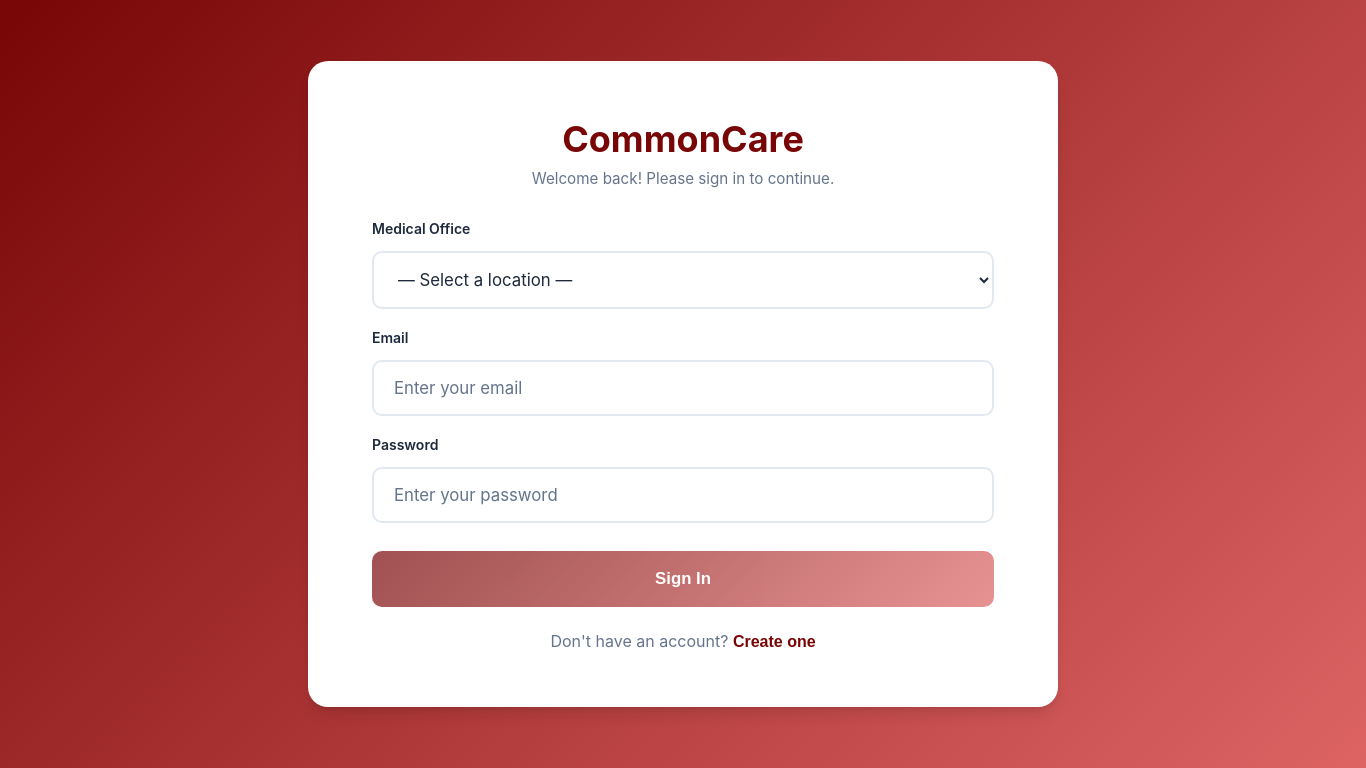
Scenario: Login component › shows error message on failed login
Expected: the dropdown labelled "Medical Office" is shown, [372,251,994,309]
Type "bad@test.com" into the field labelled "Email".
click(683, 388); type("bad@test.com")  # box [372,360,994,416]
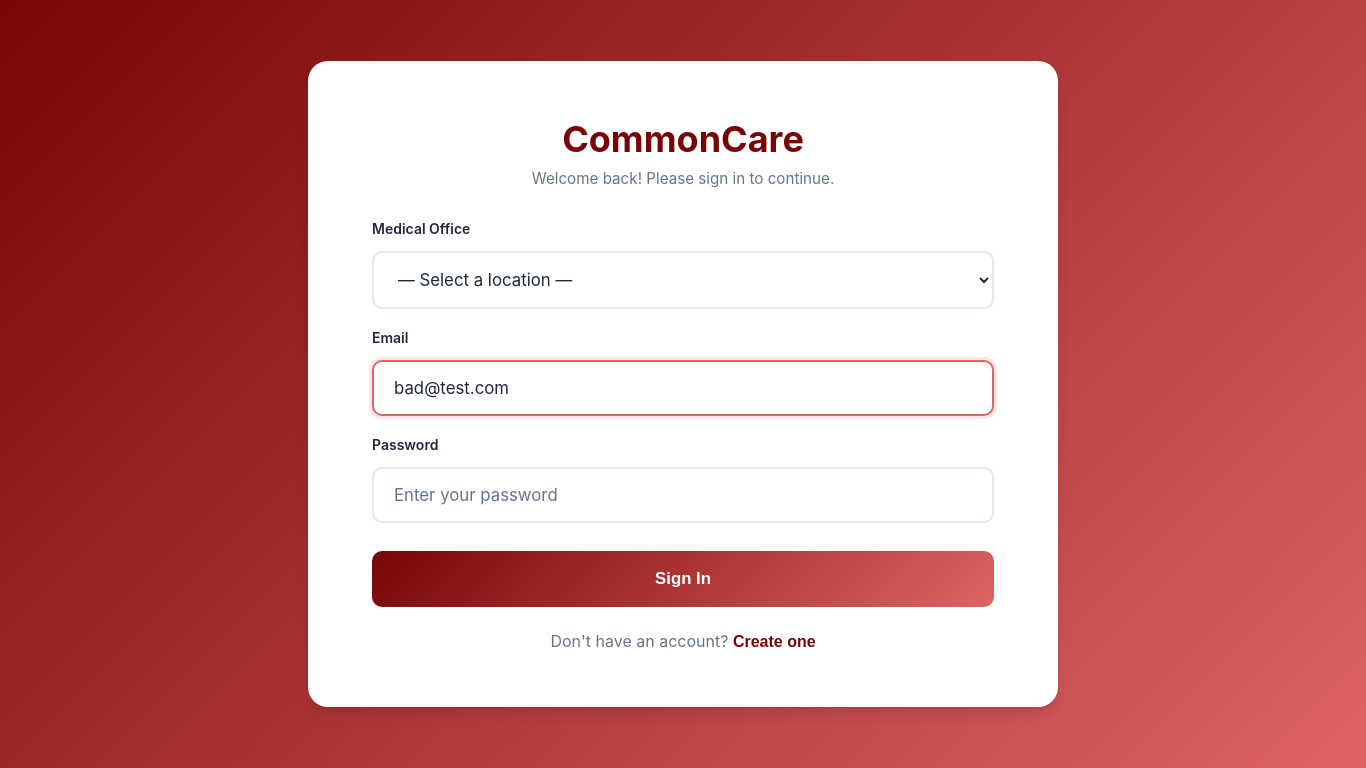
Type "wrongpass" into the password field labelled "Password".
click(683, 495); type("wrongpass")  # box [372,467,994,523]
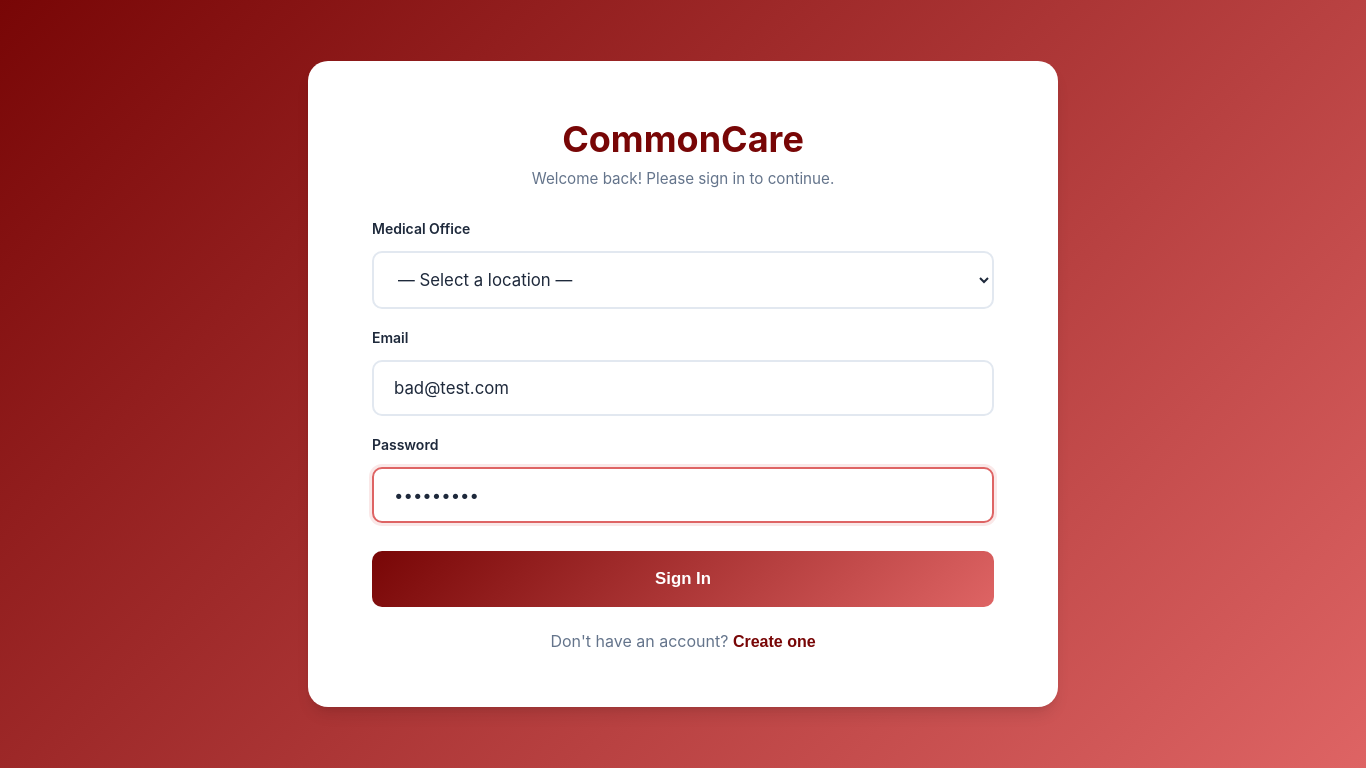
Click the button "Sign In".
click(683, 579)  # box [372,551,994,607]
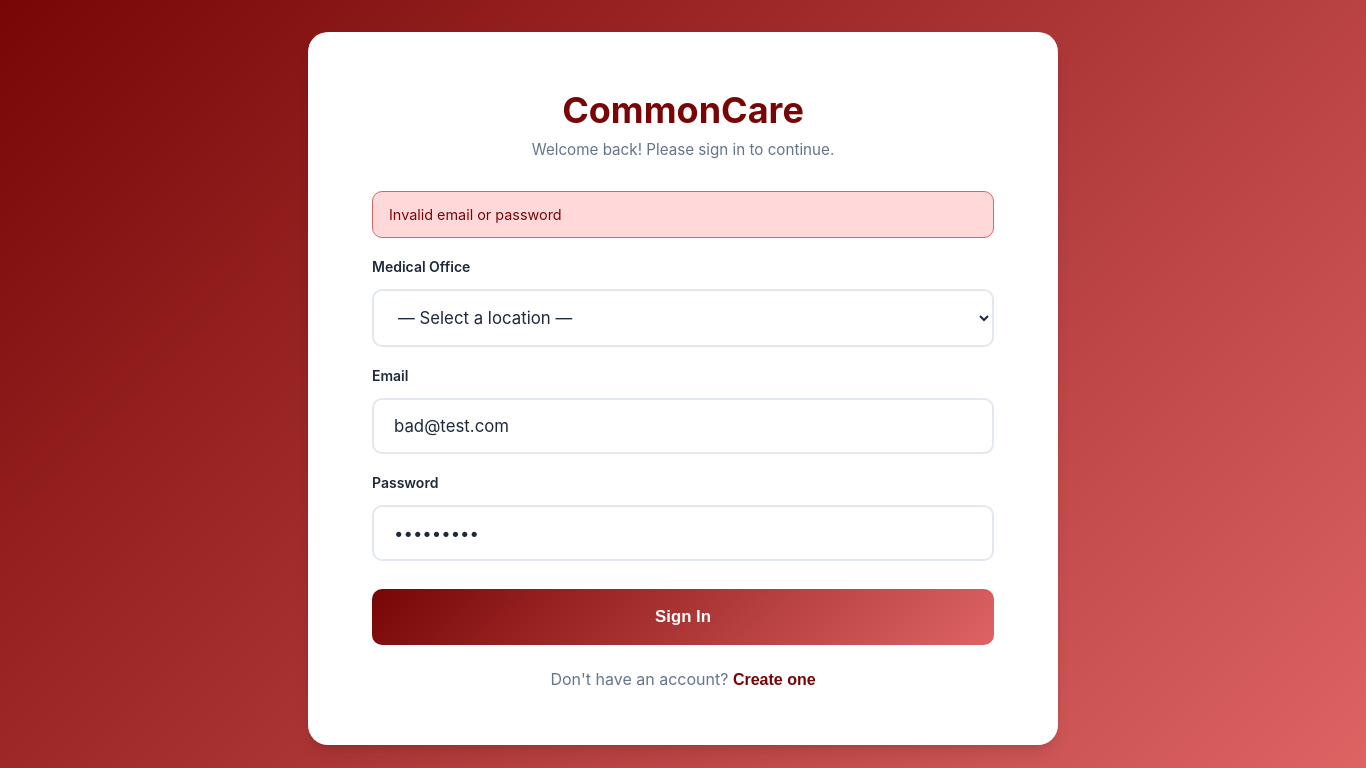
Expected: the text "Invalid email or password" is shown, [372,191,994,238]
